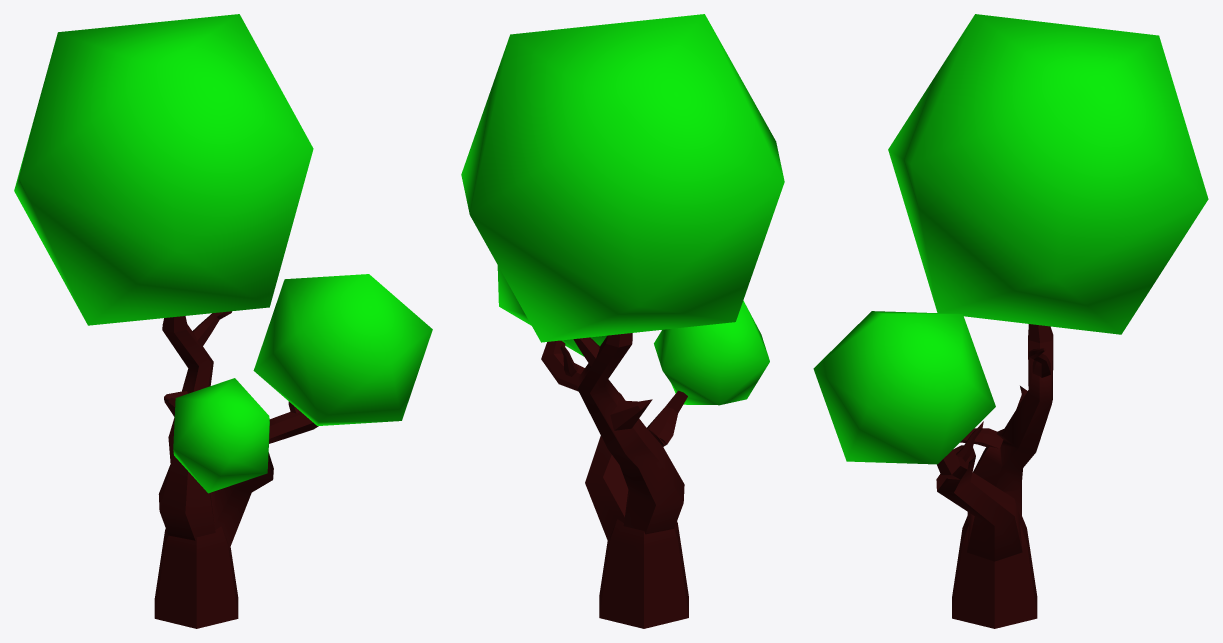
Rendered from Tree_B.fbx.
3 renders of one model, left to right at view 1: azimuth 30°, elevation 25°; view 2: azimuth 150°, elevation 25°; view 3: azimuth 270°, elevation 25°, orthographic. The views are drawn at different scales.
Parts seen in each view (by area): view 1: Tree_B; view 2: Tree_B; view 3: Tree_B.
Part boxes in pixels (box(x1,y1,x2,y2)): Tree_B: box(14, 14, 432, 628); Tree_B: box(461, 14, 784, 628); Tree_B: box(813, 14, 1208, 628).
Size of the model in its own units: 3.4 by 5.51 by 3.46.
